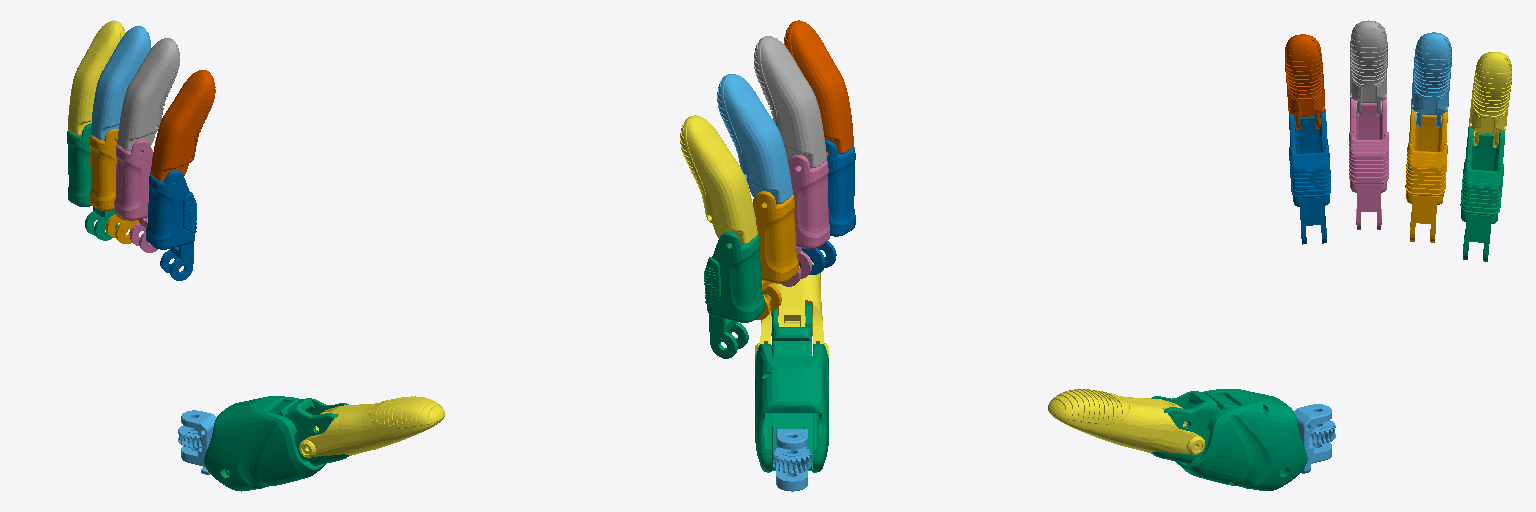
robot.urdf — o6_left:
<?xml version="1.0"?>
<robot name="o6_left">
  <link name="lh_hand_base_link">
    <inertial><origin xyz="-0.001577885681 -0.0003487672594 0.05384522198" rpy="-0.07278313919 0.01371007853 0.01679286943"/><mass value="0.2374"/><inertia ixx="5.638633685e-05" ixy="0" ixz="0" iyy="3.60382079e-05" iyz="0" izz="2.458245525e-05"/></inertial>
    <visual><origin xyz="0 0 0" rpy="0 0 0"/><geometry><mesh filename="meshes/visual/lh_hand_base_link_vis.obj"/></geometry></visual>
    <collision><origin xyz="0 0 0" rpy="0 0 0"/><geometry><mesh filename="meshes/collision/lh_hand_base_link_col.obj"/></geometry></collision>
  </link>
  <link name="lh_thumb_metacarpals_base2">
    <inertial><origin xyz="0.001627957384 -0.002766719783 -0.001842277256" rpy="-0.2395267799 -0.009018239688 0.5273090546"/><mass value="0.00258"/><inertia ixx="1.022808323e-07" ixy="0" ixz="0" iyy="8.756125803e-08" iyz="0" izz="5.16945819e-08"/></inertial>
    <visual><origin xyz="0 0 0" rpy="0 0 0"/><geometry><mesh filename="meshes/visual/lh_thumb_metacarpals_base2_vis.obj"/></geometry></visual>
    <collision><origin xyz="0 0 0" rpy="0 0 0"/><geometry><mesh filename="meshes/collision/lh_thumb_metacarpals_base2_col.obj"/></geometry></collision>
  </link>
  <joint name="lh_thumb_cmc_yaw" type="revolute"><parent link="lh_hand_base_link"/><child link="lh_thumb_metacarpals_base2"/><origin xyz="0.010457 -0.022975 0.030794" rpy="0 0 0"/><axis xyz="0 0 1"/><limit lower="0" upper="1.36" effort="10" velocity="1"/><dynamics damping="0" friction="0"/></joint>
  <link name="lh_thumb_metacarpals">
    <inertial><origin xyz="-1.846221332e-05 0.000164684334 0.02269650452" rpy="0.4339398076 0.0006535536809 -0.001055480726"/><mass value="0.04724"/><inertia ixx="7.235835543e-06" ixy="0" ixz="0" iyy="4.761582697e-06" iyz="0" izz="3.502726612e-06"/></inertial>
    <visual><origin xyz="0 0 0" rpy="0 0 0"/><geometry><mesh filename="meshes/visual/lh_thumb_metacarpals_vis.obj"/></geometry></visual>
    <collision><origin xyz="0 0 0" rpy="0 0 0"/><geometry><mesh filename="meshes/collision/lh_thumb_metacarpals_col.obj"/></geometry></collision>
  </link>
  <joint name="lh_thumb_cmc_pitch" type="revolute"><parent link="lh_thumb_metacarpals_base2"/><child link="lh_thumb_metacarpals"/><origin xyz="0.0061649 -0.010678 -0.004891" rpy="1.1529 0 0.5236"/><axis xyz="-1 0 0"/><limit lower="0" upper="0.58" effort="60" velocity="1"/><dynamics damping="4" friction="0"/></joint>
  <link name="lh_thumb_distal">
    <inertial><origin xyz="-4.4744e-07 -0.0041369 0.02301" rpy="-1.82481496e-05 -0.0694802439 1.570812388"/><mass value="0.0142"/><inertia ixx="2.437987066e-06" ixy="0" ixz="0" iyy="2.27817634e-06" iyz="0" izz="5.065642237e-07"/></inertial>
    <visual><origin xyz="0 0 0" rpy="0 0 0"/><geometry><mesh filename="meshes/visual/lh_thumb_distal_vis.obj"/></geometry></visual>
    <collision><origin xyz="0 0 0" rpy="0 0 0"/><geometry><mesh filename="meshes/collision/lh_thumb_distal_col.obj"/></geometry></collision>
  </link>
  <joint name="lh_thumb_ip" type="revolute"><parent link="lh_thumb_metacarpals"/><child link="lh_thumb_distal"/><origin xyz="0 0.0037776 0.045368" rpy="0 0 0"/><axis xyz="-1 0 0"/><limit lower="0" upper="1.08" effort="0" velocity="1.86"/><dynamics damping="0.4" friction="0"/><mimic joint="lh_thumb_cmc_pitch" multiplier="1.86" offset="0"/></joint>
  <link name="lh_index_proximal">
    <inertial><origin xyz="-0.002086565563 2.538387133e-06 0.0172734942" rpy="-0.003689880854 0.2228833403 -0.02080527153"/><mass value="0.01082"/><inertia ixx="3.661015252e-07" ixy="0" ixz="0" iyy="3.6232066e-07" iyz="0" izz="1.006728149e-07"/></inertial>
    <visual><origin xyz="0 0 0" rpy="0 0 0"/><geometry><mesh filename="meshes/visual/lh_index_proximal_vis.obj"/></geometry></visual>
    <collision><origin xyz="0 0 0" rpy="0 0 0"/><geometry><mesh filename="meshes/collision/lh_index_proximal_col.obj"/></geometry></collision>
  </link>
  <joint name="lh_index_mcp_pitch" type="revolute"><parent link="lh_hand_base_link"/><child link="lh_index_proximal"/><origin xyz="0.0024758 -0.02419 0.098779" rpy="0.05236 0 0"/><axis xyz="0 1 0"/><limit lower="0" upper="1.6" effort="60" velocity="1"/><dynamics damping="4" friction="0"/></joint>
  <link name="lh_index_distal">
    <inertial><origin xyz="0.006589866164 5.138556421e-06 0.01943936" rpy="0.004317899835 0.4285246287 0.01192247138"/><mass value="0.00632"/><inertia ixx="1.962699412e-07" ixy="0" ixz="0" iyy="1.914164915e-07" iyz="0" izz="3.774836736e-08"/></inertial>
    <visual><origin xyz="0 0 0" rpy="0 0 0"/><geometry><mesh filename="meshes/visual/lh_index_distal_vis.obj"/></geometry></visual>
    <collision><origin xyz="0 0 0" rpy="0 0 0"/><geometry><mesh filename="meshes/collision/lh_index_distal_col.obj"/></geometry></collision>
  </link>
  <joint name="lh_index_dip" type="revolute"><parent link="lh_index_proximal"/><child link="lh_index_distal"/><origin xyz="-0.0052516 0 0.036625" rpy="0 0 0"/><axis xyz="0 1 0"/><limit lower="0" upper="1.43" effort="0" velocity="0.89"/><dynamics damping="0.4" friction="0"/><mimic joint="lh_index_mcp_pitch" multiplier="0.89" offset="0"/></joint>
  <link name="lh_middle_proximal">
    <inertial><origin xyz="-0.002086606541 2.569181801e-06 0.01727350117" rpy="-0.003710897027 0.2228831259 -0.02089715952"/><mass value="0.01082"/><inertia ixx="3.661015011e-07" ixy="0" ixz="0" iyy="3.623216463e-07" iyz="0" izz="1.006738526e-07"/></inertial>
    <visual><origin xyz="0 0 0" rpy="0 0 0"/><geometry><mesh filename="meshes/visual/lh_middle_proximal_vis.obj"/></geometry></visual>
    <collision><origin xyz="0 0 0" rpy="0 0 0"/><geometry><mesh filename="meshes/collision/lh_middle_proximal_col.obj"/></geometry></collision>
  </link>
  <joint name="lh_middle_mcp_pitch" type="revolute"><parent link="lh_hand_base_link"/><child link="lh_middle_proximal"/><origin xyz="0.00052576 -0.00634 0.1027" rpy="0 0 0"/><axis xyz="0 1 0"/><limit lower="0" upper="1.6" effort="60" velocity="1"/><dynamics damping="4" friction="0"/></joint>
  <link name="lh_middle_distal">
    <inertial><origin xyz="0.006589865163 5.108629243e-06 0.01943933157" rpy="0.004294471962 0.4285235912 0.01185858462"/><mass value="0.00632"/><inertia ixx="1.962708899e-07" ixy="0" ixz="0" iyy="1.914164969e-07" iyz="0" izz="3.774871325e-08"/></inertial>
    <visual><origin xyz="0 0 0" rpy="0 0 0"/><geometry><mesh filename="meshes/visual/lh_middle_distal_vis.obj"/></geometry></visual>
    <collision><origin xyz="0 0 0" rpy="0 0 0"/><geometry><mesh filename="meshes/collision/lh_middle_distal_col.obj"/></geometry></collision>
  </link>
  <joint name="lh_middle_dip" type="revolute"><parent link="lh_middle_proximal"/><child link="lh_middle_distal"/><origin xyz="-0.0052516 0 0.036625" rpy="0 0 0"/><axis xyz="0 1 0"/><limit lower="0" upper="1.43" effort="0" velocity="0.89"/><dynamics damping="0.4" friction="0"/><mimic joint="lh_middle_mcp_pitch" multiplier="0.89" offset="0"/></joint>
  <link name="lh_ring_proximal">
    <inertial><origin xyz="-0.002086679313 2.630004195e-06 0.01727349264" rpy="-0.003747031983 0.2228811615 -0.02105086341"/><mass value="0.01082"/><inertia ixx="3.661023518e-07" ixy="0" ixz="0" iyy="3.623226221e-07" iyz="0" izz="1.006750261e-07"/></inertial>
    <visual><origin xyz="0 0 0" rpy="0 0 0"/><geometry><mesh filename="meshes/visual/lh_ring_proximal_vis.obj"/></geometry></visual>
    <collision><origin xyz="0 0 0" rpy="0 0 0"/><geometry><mesh filename="meshes/collision/lh_ring_proximal_col.obj"/></geometry></collision>
  </link>
  <joint name="lh_ring_mcp_pitch" type="revolute"><parent link="lh_hand_base_link"/><child link="lh_ring_proximal"/><origin xyz="0.0010258 0.011135 0.098767" rpy="-0.05236 0 0"/><axis xyz="0 1 0"/><limit lower="0" upper="1.6" effort="60" velocity="1"/><dynamics damping="4" friction="0"/></joint>
  <link name="lh_ring_distal">
    <inertial><origin xyz="0.006589866489 5.058835282e-06 0.01943939722" rpy="0.004258025926 0.4285277437 0.01175793471"/><mass value="0.00632"/><inertia ixx="1.962691565e-07" ixy="0" ixz="0" iyy="1.914155055e-07" iyz="0" izz="3.7748038e-08"/></inertial>
    <visual><origin xyz="0 0 0" rpy="0 0 0"/><geometry><mesh filename="meshes/visual/lh_ring_distal_vis.obj"/></geometry></visual>
    <collision><origin xyz="0 0 0" rpy="0 0 0"/><geometry><mesh filename="meshes/collision/lh_ring_distal_col.obj"/></geometry></collision>
  </link>
  <joint name="lh_ring_dip" type="revolute"><parent link="lh_ring_proximal"/><child link="lh_ring_distal"/><origin xyz="-0.0052516 0 0.036625" rpy="0 0 0"/><axis xyz="0 1 0"/><limit lower="0" upper="1.43" effort="0" velocity="0.89"/><dynamics damping="0.4" friction="0"/><mimic joint="lh_ring_mcp_pitch" multiplier="0.89" offset="0"/></joint>
  <link name="lh_pinky_proximal">
    <inertial><origin xyz="-0.002086735998 2.680622512e-06 0.01727348481" rpy="-0.00377517974 0.2228793266 -0.02117063271"/><mass value="0.01082"/><inertia ixx="3.661031978e-07" ixy="0" ixz="0" iyy="3.623226028e-07" iyz="0" izz="1.006761994e-07"/></inertial>
    <visual><origin xyz="0 0 0" rpy="0 0 0"/><geometry><mesh filename="meshes/visual/lh_pinky_proximal_vis.obj"/></geometry></visual>
    <collision><origin xyz="0 0 0" rpy="0 0 0"/><geometry><mesh filename="meshes/collision/lh_pinky_proximal_col.obj"/></geometry></collision>
  </link>
  <joint name="lh_pinky_mcp_pitch" type="revolute"><parent link="lh_hand_base_link"/><child link="lh_pinky_proximal"/><origin xyz="0.0024758 0.028372 0.092741" rpy="-0.087266 0 0"/><axis xyz="0 1 0"/><limit lower="0" upper="1.6" effort="60" velocity="1"/><dynamics damping="4" friction="0"/></joint>
  <link name="lh_pinky_distal">
    <inertial><origin xyz="0.006589875889 5.030875342e-06 0.01943944911" rpy="0.004236482212 0.4285305001 0.01169685419"/><mass value="0.00632"/><inertia ixx="1.962683818e-07" ixy="0" ixz="0" iyy="1.914145105e-07" iyz="0" izz="3.774770772e-08"/></inertial>
    <visual><origin xyz="0 0 0" rpy="0 0 0"/><geometry><mesh filename="meshes/visual/lh_pinky_distal_vis.obj"/></geometry></visual>
    <collision><origin xyz="0 0 0" rpy="0 0 0"/><geometry><mesh filename="meshes/collision/lh_pinky_distal_col.obj"/></geometry></collision>
  </link>
  <joint name="lh_pinky_dip" type="revolute"><parent link="lh_pinky_proximal"/><child link="lh_pinky_distal"/><origin xyz="-0.0052516 0 0.036625" rpy="0 0 0"/><axis xyz="0 1 0"/><limit lower="0" upper="1.43" effort="0" velocity="0.89"/><dynamics damping="0.4" friction="0"/><mimic joint="lh_pinky_mcp_pitch" multiplier="0.89" offset="0"/></joint>
</robot>

--- What the picture shows (computed from the rendered views, not written in the file) ---
Views: 3 orthographic renders of the robot side by side, from view 1: azimuth 30°, elevation 25°; view 2: azimuth 150°, elevation 25°; view 3: azimuth 270°, elevation 25°.
Robot: o6_left — 12 links, 11 joints (11 revolute); root link lh_hand_base_link; default pose: every joint at zero.
Links seen in each view (by area): view 1: lh_thumb_metacarpals, lh_thumb_distal, lh_index_proximal, lh_middle_distal, lh_index_distal, lh_ring_distal, lh_middle_proximal, lh_pinky_distal, lh_ring_proximal, lh_pinky_proximal, lh_thumb_metacarpals_base2; view 2: lh_thumb_metacarpals, lh_pinky_proximal, lh_pinky_distal, lh_ring_distal, lh_middle_distal, lh_index_distal, lh_ring_proximal, lh_middle_proximal, lh_index_proximal, lh_thumb_distal, lh_thumb_metacarpals_base2; view 3: lh_thumb_metacarpals, lh_thumb_distal, lh_pinky_proximal, lh_ring_proximal, lh_index_proximal, lh_middle_proximal, lh_pinky_distal, lh_ring_distal, lh_index_distal, lh_middle_distal, lh_thumb_metacarpals_base2.
Link boxes in pixels (x1,y1,x2,y2): lh_thumb_metacarpals: [204, 396, 348, 491]; lh_thumb_distal: [299, 396, 444, 457]; lh_index_proximal: [146, 170, 196, 280]; lh_middle_distal: [117, 38, 179, 150]; lh_index_distal: [150, 70, 215, 181]; lh_ring_distal: [91, 26, 150, 140]; lh_middle_proximal: [114, 140, 157, 252]; lh_pinky_distal: [68, 20, 124, 135]; lh_ring_proximal: [89, 129, 138, 243]; lh_pinky_proximal: [67, 124, 117, 240]; lh_thumb_metacarpals_base2: [178, 410, 216, 474]; lh_thumb_metacarpals: [755, 304, 828, 472]; lh_pinky_proximal: [704, 232, 764, 358]; lh_pinky_distal: [680, 115, 757, 245]; lh_ring_distal: [717, 74, 792, 204]; lh_middle_distal: [754, 36, 826, 168]; lh_index_distal: [784, 20, 853, 154]; lh_ring_proximal: [753, 191, 798, 319]; lh_middle_proximal: [781, 155, 829, 286]; lh_index_proximal: [799, 140, 855, 274]; lh_thumb_distal: [755, 257, 828, 360]; lh_thumb_metacarpals_base2: [773, 429, 811, 491]; lh_thumb_metacarpals: [1151, 389, 1307, 490]; lh_thumb_distal: [1048, 389, 1204, 454]; lh_pinky_proximal: [1460, 126, 1504, 261]; lh_ring_proximal: [1405, 107, 1447, 242]; lh_index_proximal: [1289, 109, 1330, 244]; lh_middle_proximal: [1349, 97, 1388, 229]; lh_pinky_distal: [1469, 52, 1511, 147]; lh_ring_distal: [1411, 32, 1451, 127]; lh_index_distal: [1285, 34, 1324, 129]; lh_middle_distal: [1350, 20, 1387, 115]; lh_thumb_metacarpals_base2: [1294, 404, 1335, 473].
Size in the robot's own frame: 0.0747 by 0.1505 by 0.1604 metres.
Meshes: 12 distinct files referenced, 11 mesh visuals loaded (11 OBJ); not drawn: 1 (reference not matched to a file when rendering).
